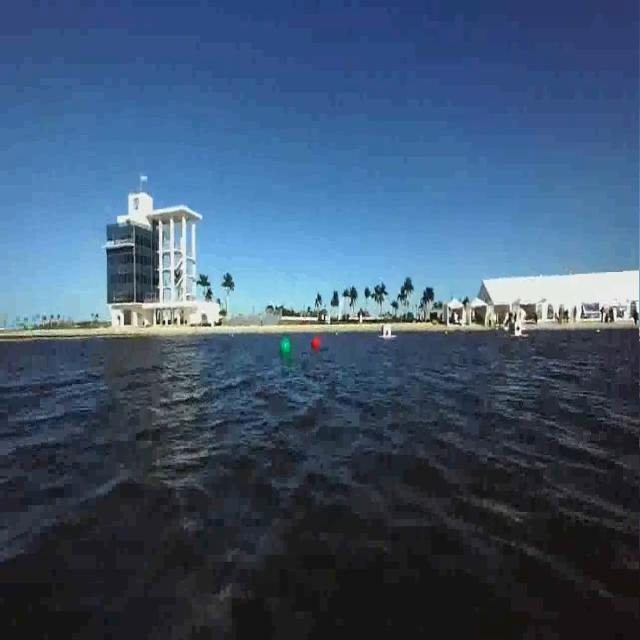green-buoy: (280, 337, 292, 358)
red-buoy: (312, 338, 321, 351)
